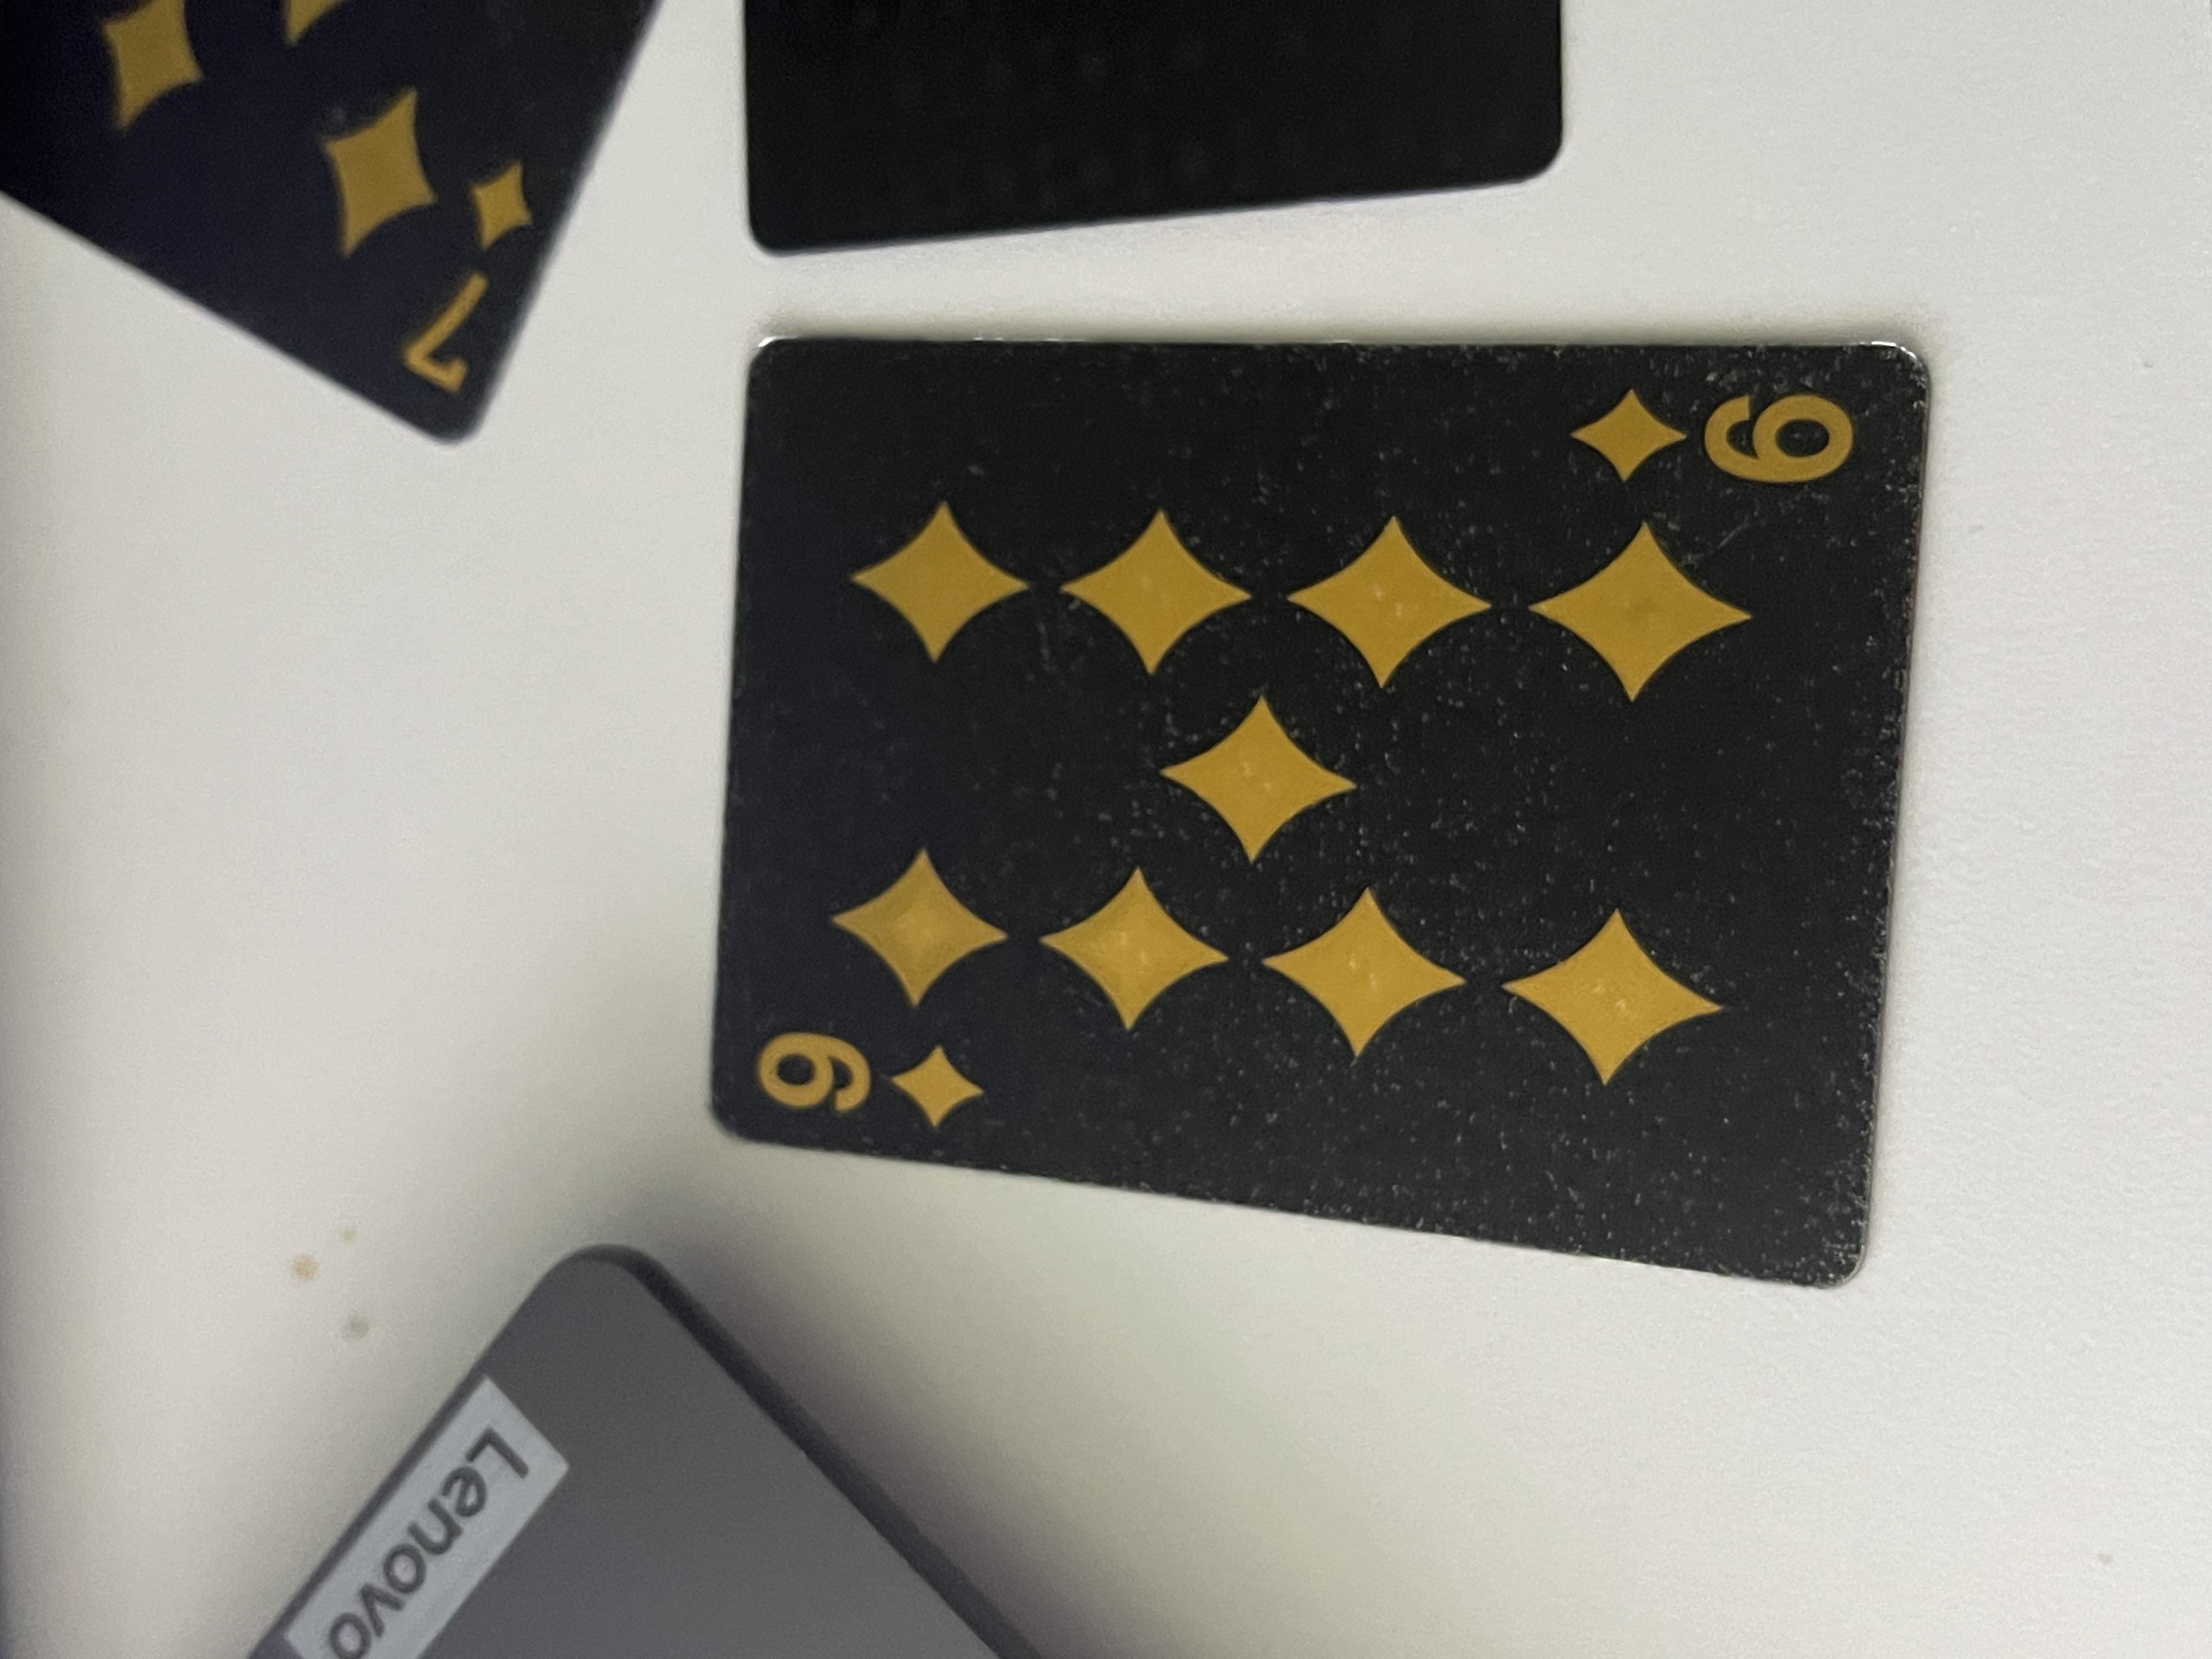7D: (1679, 293, 2052, 423)
9D: (1547, 1171, 1733, 1412), (688, 566, 864, 749)
